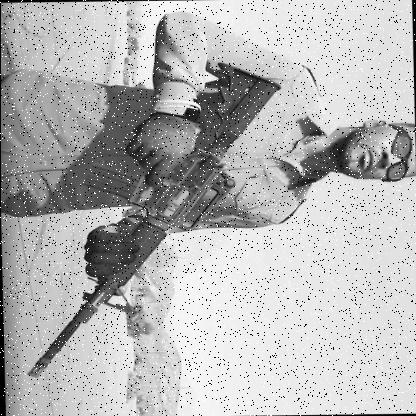rifle: (13, 62, 291, 386)
